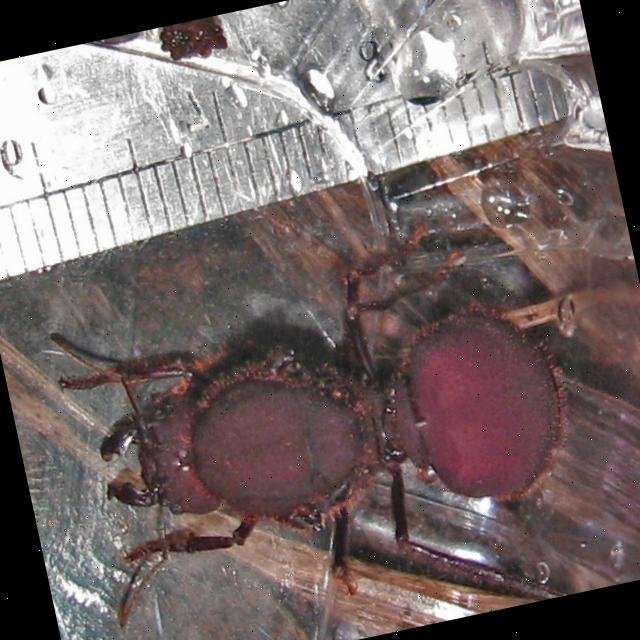Alive-Female-Dealate: (40, 201, 607, 640)
